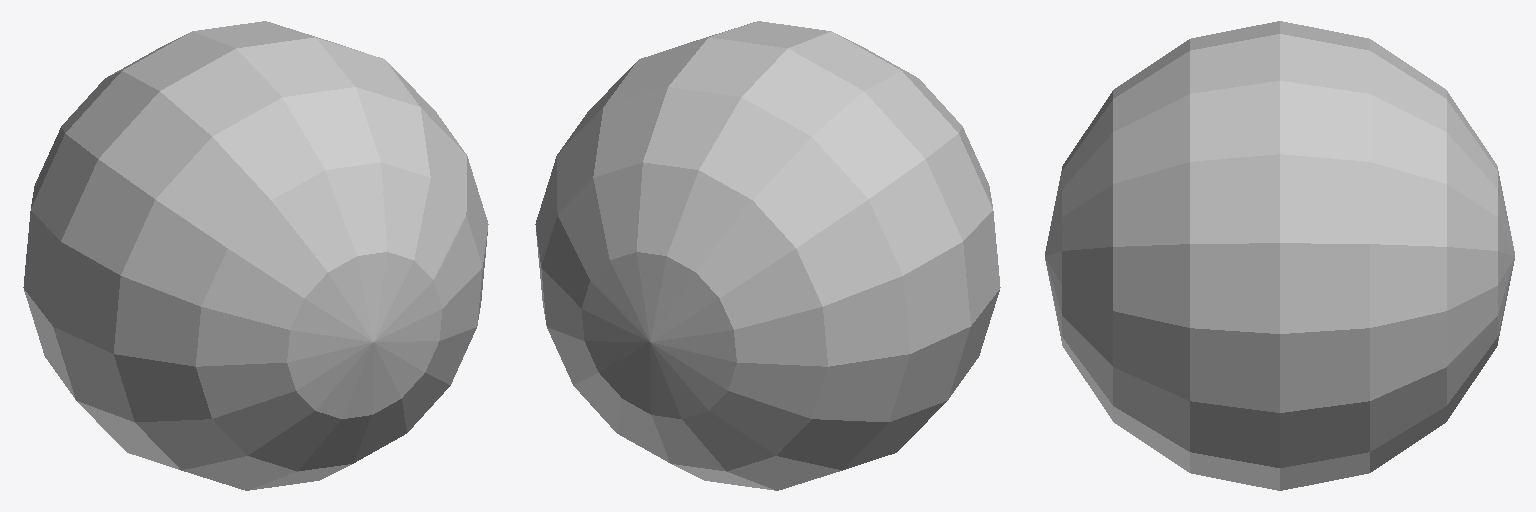
File: bunny_eye_r.OBJ
3 renders of one model, left to right at view 1: azimuth 30°, elevation 25°; view 2: azimuth 150°, elevation 25°; view 3: azimuth 270°, elevation 25°, orthographic.
Visible parts, largest first — view 1: ZBrushPolyMesh3D; view 2: ZBrushPolyMesh3D; view 3: ZBrushPolyMesh3D.
Boxes of the visible parts, box(x1,y1,x2,y2) form: ZBrushPolyMesh3D: box(23, 21, 488, 490); ZBrushPolyMesh3D: box(535, 21, 1000, 490); ZBrushPolyMesh3D: box(1045, 21, 1514, 490).
Size of the model in its own units: 0.353 by 0.353 by 0.3547.